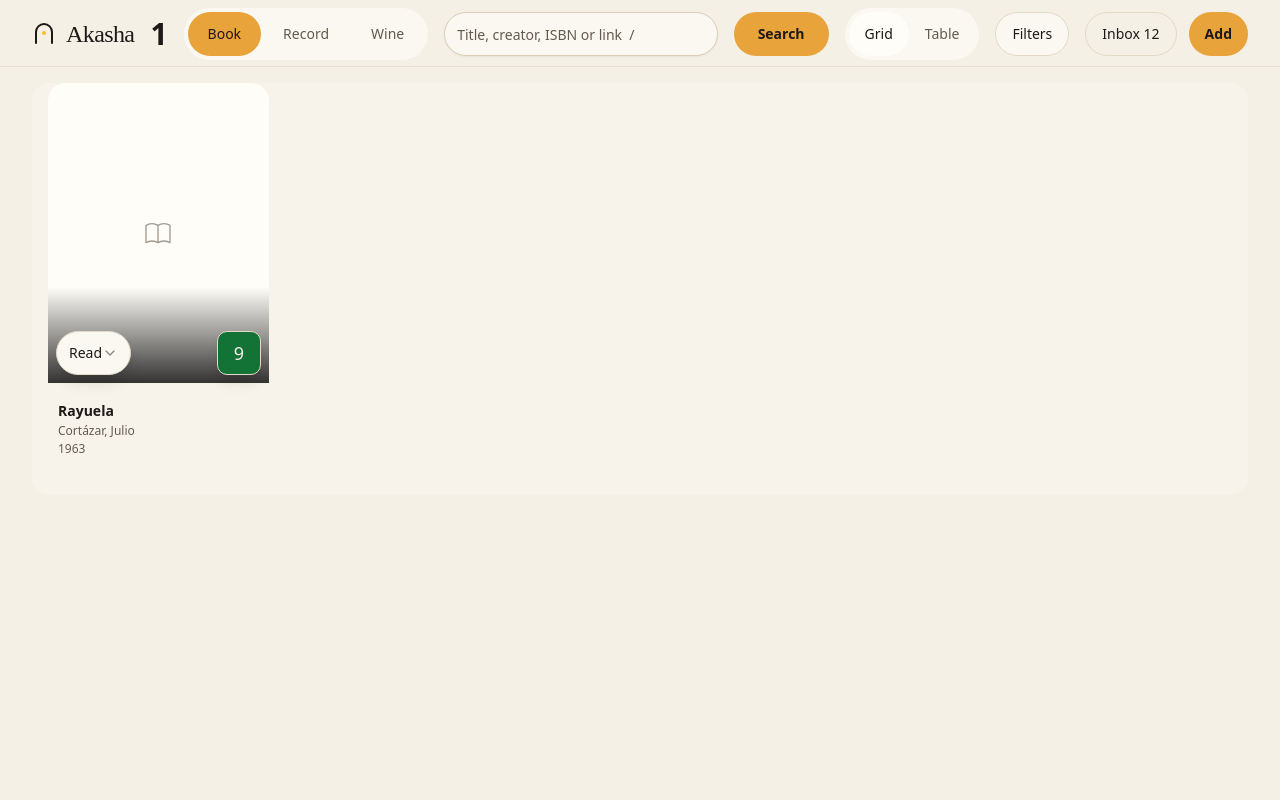
Scenario: row 7: the confirm form shows what the search already returned, and fetches the rest only when asked
Expected: the heading "Rayuela" is shown, x1=58 y1=401 x2=114 y2=420
Type "Dune Messiah" into the search field at (581, 34), box x1=444 y1=12 x2=718 y2=56
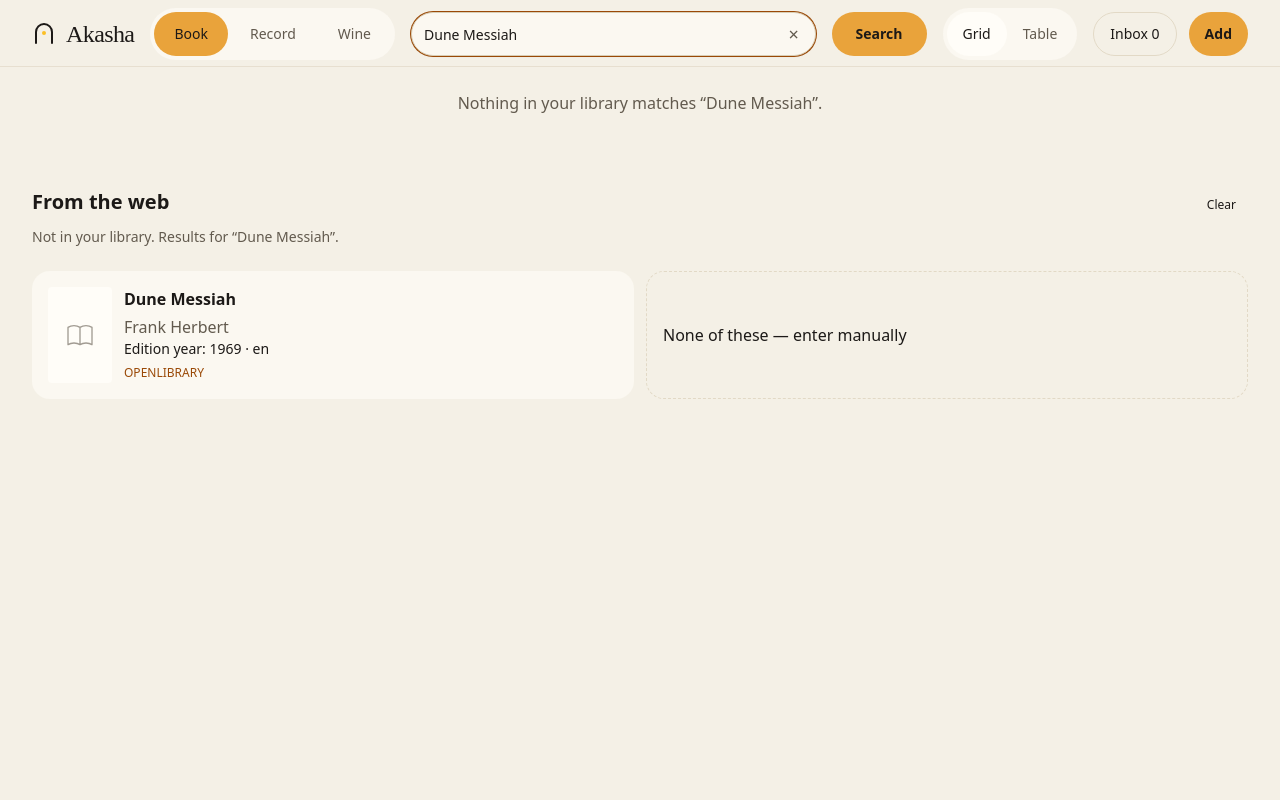
Click the button "Dune Messiah" at (80, 335), box x1=32 y1=271 x2=634 y2=399
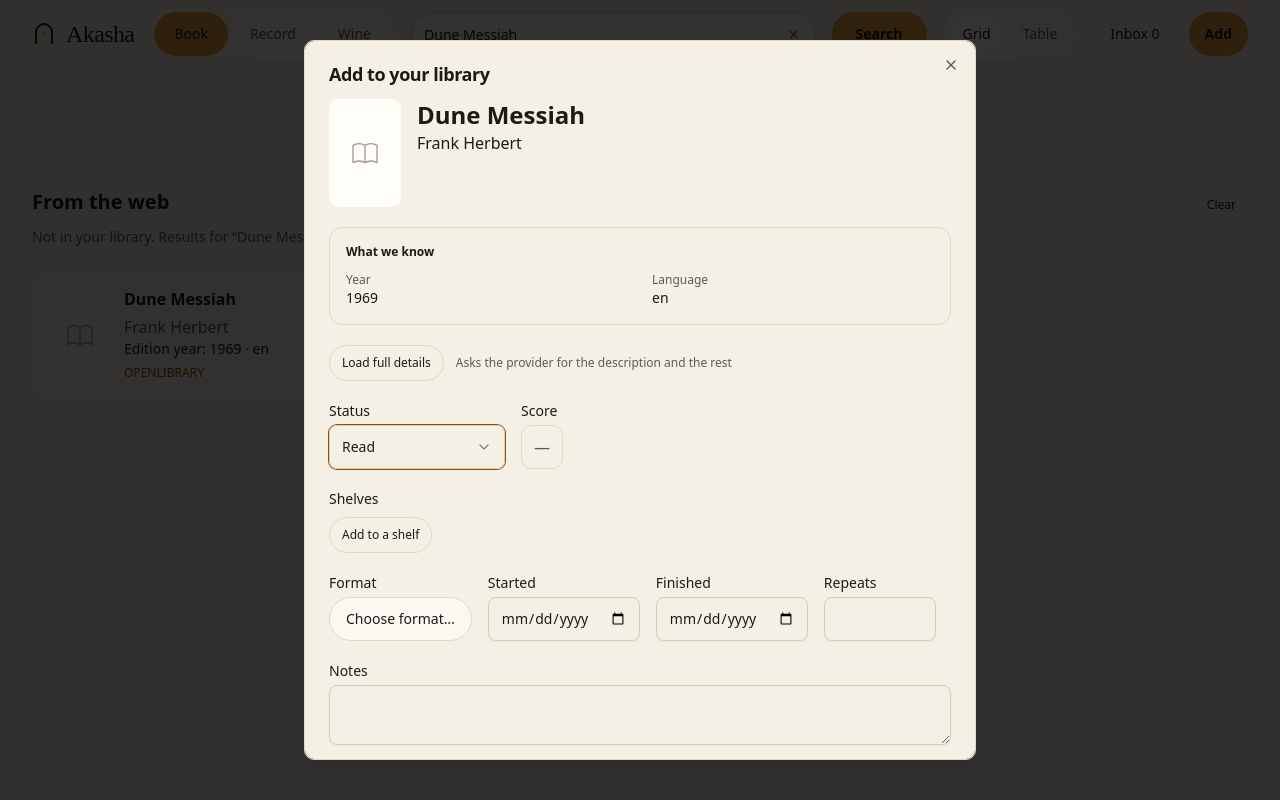
Now the text "Frank Herbert" is shown, box x1=417 y1=132 x2=522 y2=154
Click the button "Load full details" at (386, 363), box x1=329 y1=345 x2=444 y2=381
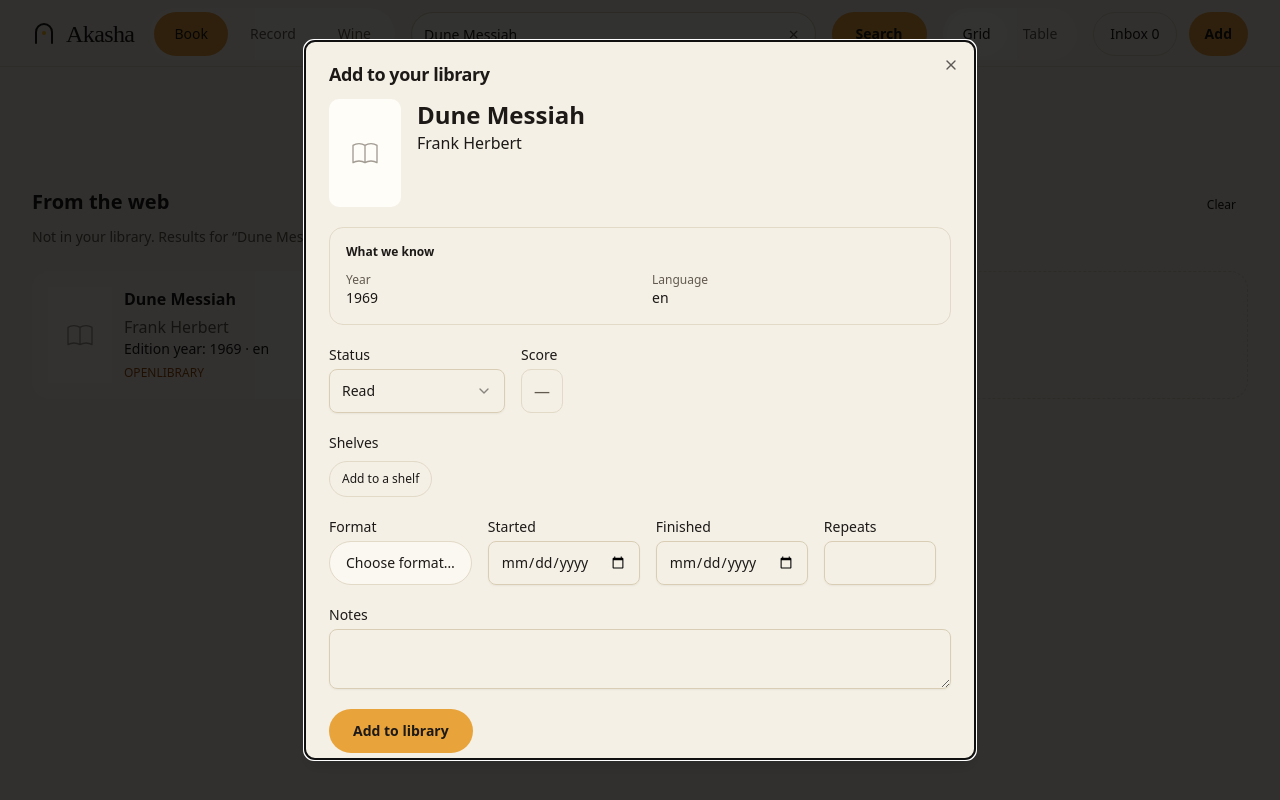
Now the button "Load full details" is gone
